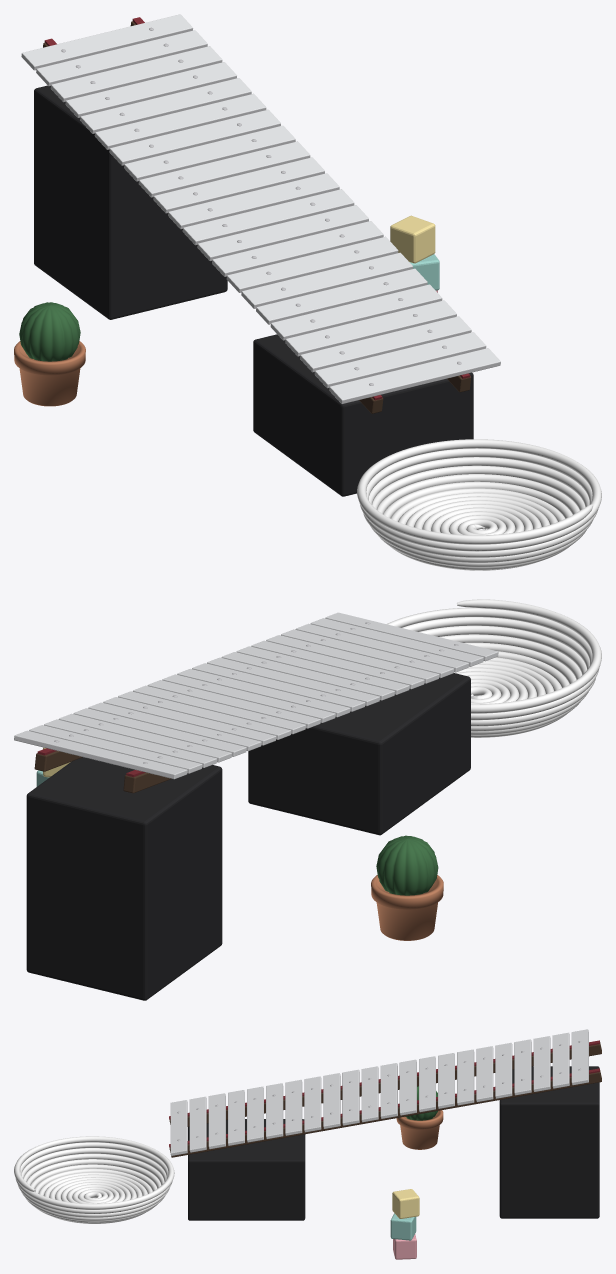
File: xylophone-ramp.glb
The picture shows the model from 3 angles, top to bottom: view 1: azimuth 30°, elevation 25°; view 2: azimuth 150°, elevation 25°; view 3: azimuth 270°, elevation 25°; orthographic projection. The views are drawn at different scales.
Parts seen in each view (by area): view 1: basket, backstand, stand, bar21, bar14, bar15, bar18, bar20, bar00, bar04, bar05, bar08 (+16 smaller); view 2: backstand, stand, basket, pot, cactus, bar00, bar06, bar21, bar01, bar04, bar05, bar12 (+17 smaller); view 3: backstand, basket, stand, rail1, pot, bar12, bar03, bar04, bar06, bar01, bar02, bar09 (+19 smaller).
Part boxes in pixels (x1,y1,x2,y2): basket: (357, 439, 601, 570); backstand: (34, 85, 227, 319); stand: (253, 334, 473, 496); bar21: (329, 348, 500, 404); bar14: (226, 236, 398, 292); bar15: (241, 252, 412, 308); bar18: (285, 300, 456, 356); bar20: (314, 332, 486, 388); bar00: (21, 14, 193, 70); bar04: (80, 78, 251, 133); bar05: (94, 93, 266, 149); bar08: (138, 141, 310, 197); backstand: (26, 757, 222, 1000); stand: (248, 673, 470, 835); basket: (386, 599, 601, 737); pot: (371, 875, 443, 940); cactus: (376, 835, 438, 895); bar00: (14, 730, 187, 779); bar06: (103, 697, 276, 745); bar21: (325, 612, 498, 661); bar01: (29, 725, 202, 773); bar04: (73, 708, 246, 756); bar05: (88, 702, 261, 751); bar12: (192, 663, 365, 711); backstand: (499, 1066, 599, 1218); basket: (14, 1136, 174, 1223); stand: (188, 1119, 305, 1220); rail1: (169, 1070, 601, 1157); pot: (396, 1110, 443, 1149); bar12: (342, 1069, 359, 1125); bar03: (514, 1039, 531, 1095); bar04: (495, 1042, 512, 1098); bar06: (457, 1049, 474, 1105); bar01: (552, 1032, 569, 1088); bar02: (533, 1036, 550, 1091); bar09: (399, 1059, 416, 1115).
Size of what is drawn, in the model's own units: 0.6105 by 0.3226 by 1.18.
